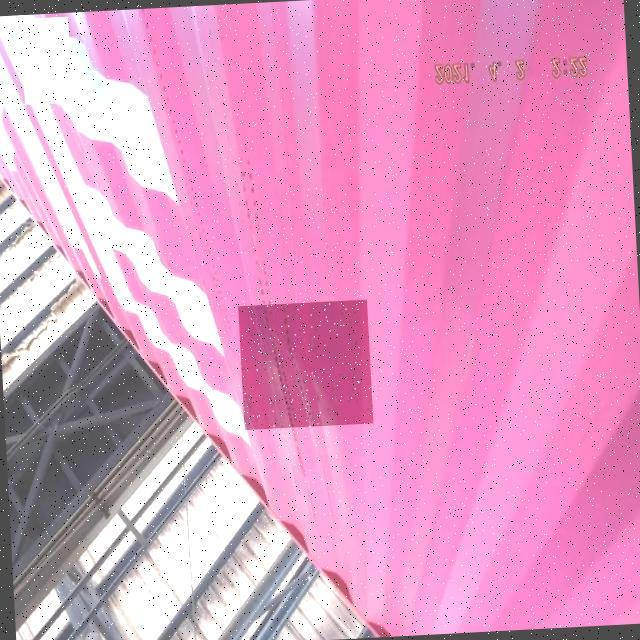Dent: (239, 299, 374, 430)
